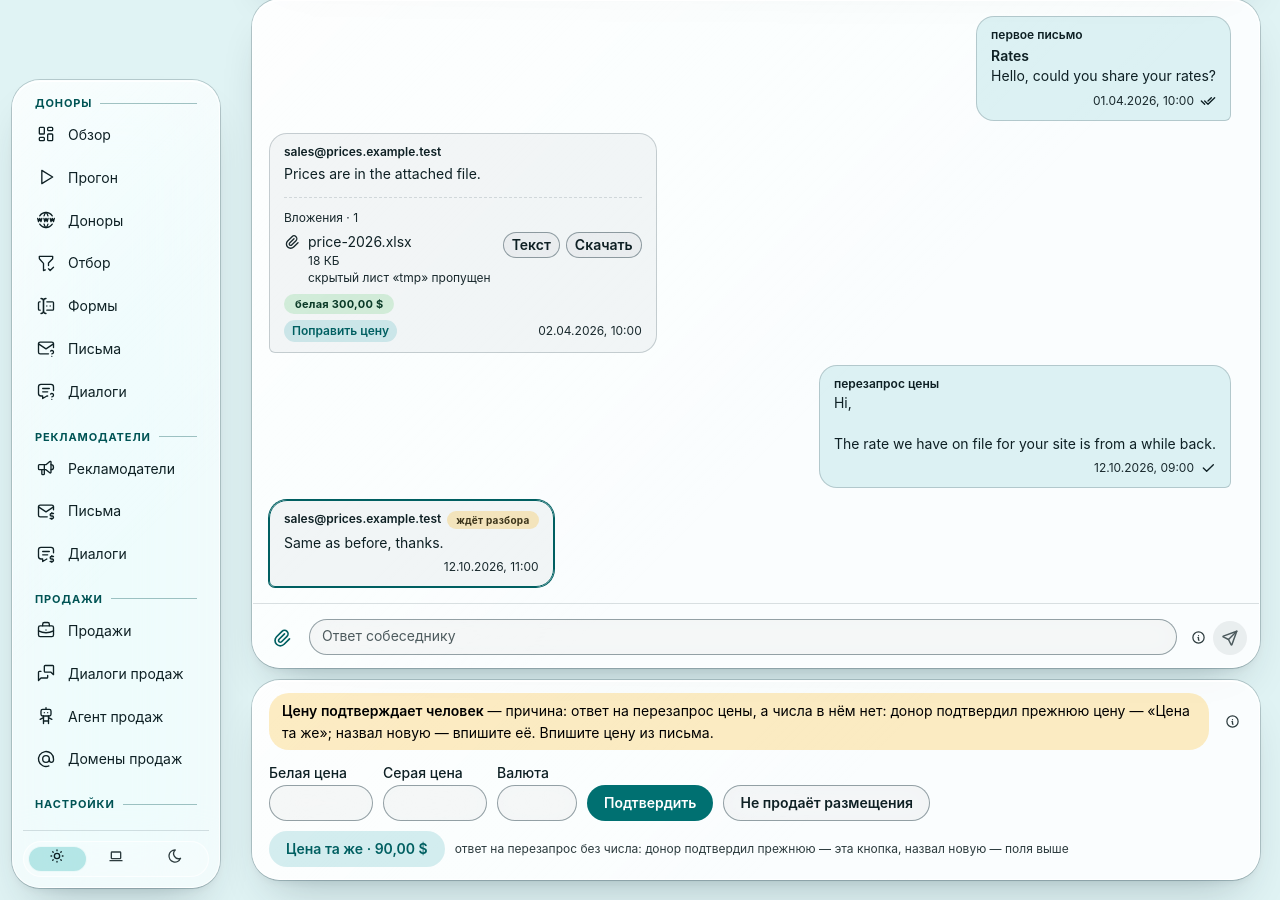
Test: перезапрос цены в переписке › «Цена та же» — после подтверждения у кнопки уходит номером ответа
The image size is (1280, 900).
(page scrolled)
Step 1. Click the button "Цена та же · 90,00 $" → (357, 849), box x1=269 y1=831 x2=445 y2=867
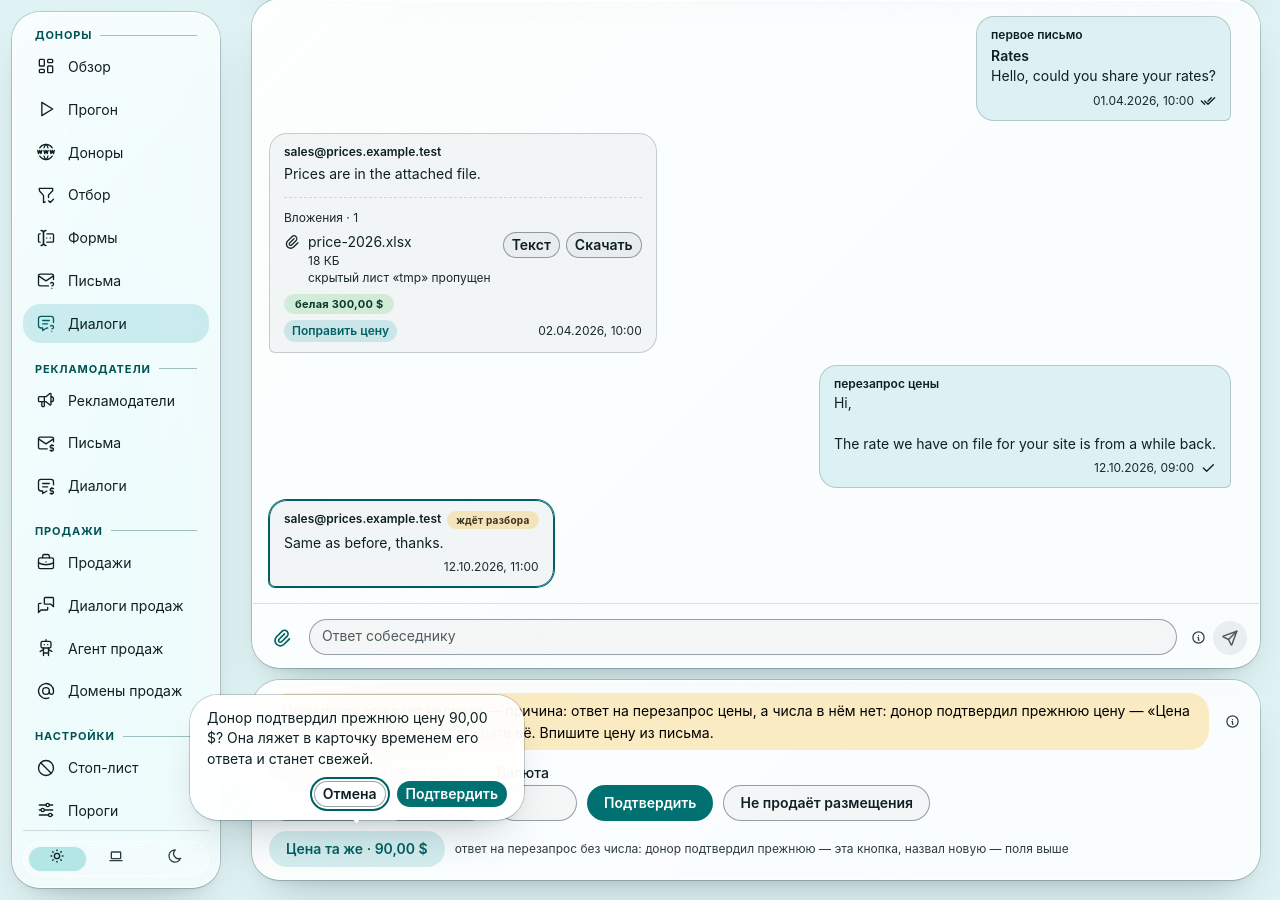
Выпадающее окно Mantine в jsdom — `display: none`: без `hidden` кнопок не видно.
Step 2. Click the 1st button "Подтвердить" → (452, 794), box x1=396 y1=781 x2=507 y2=807
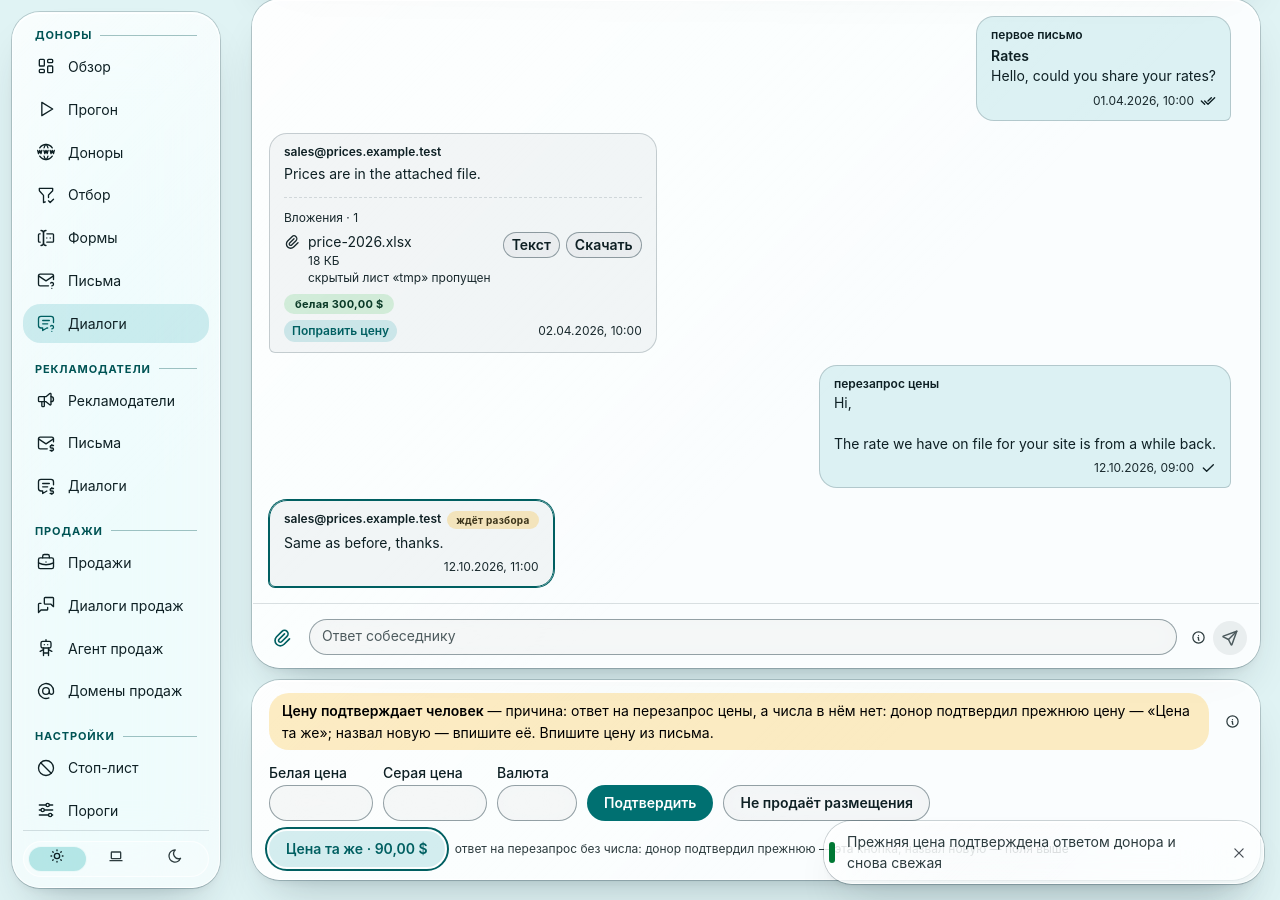
Check: the text "Прежняя цена подтверждена ответом донора и снова свежая" is shown, box x1=847 y1=832 x2=1215 y2=873
